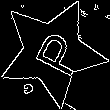P_NW: (21, 24, 83, 80)
